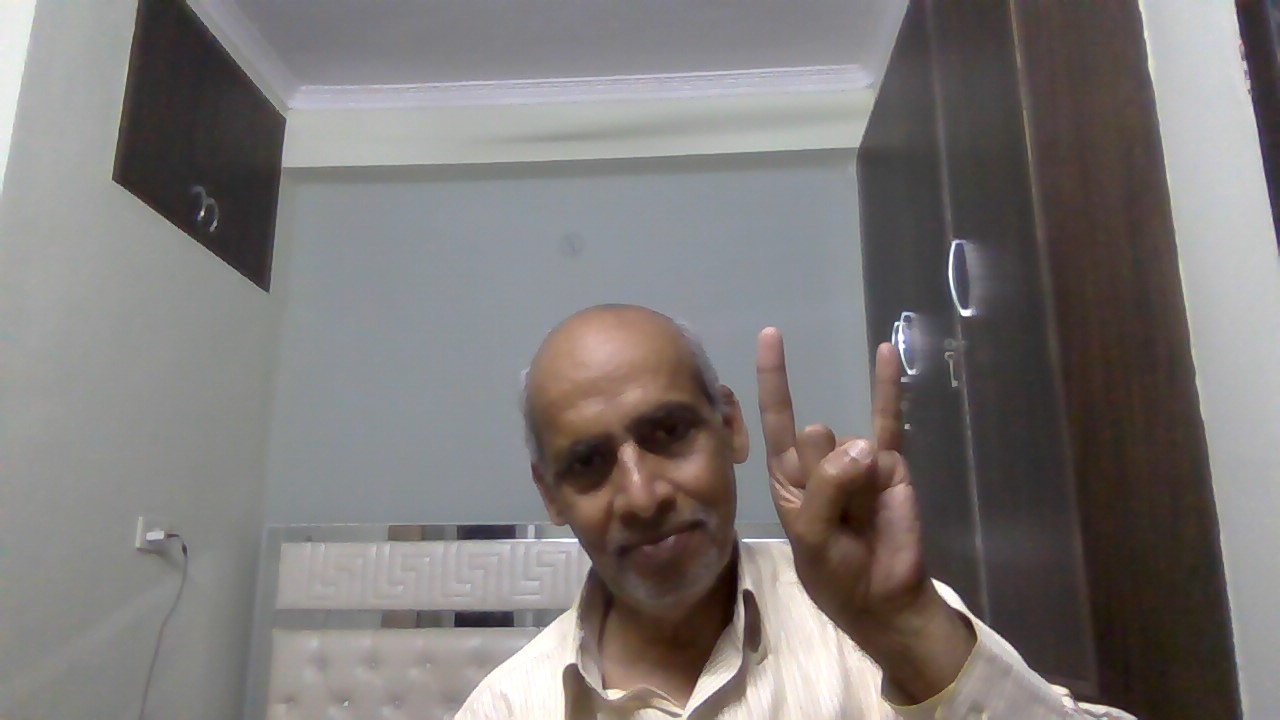Select All: (749, 316, 938, 613)
